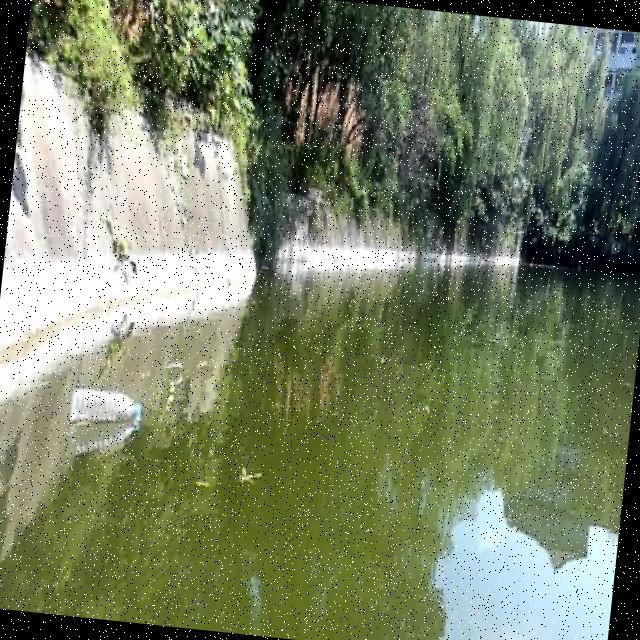Bottle: (63, 381, 147, 433)
